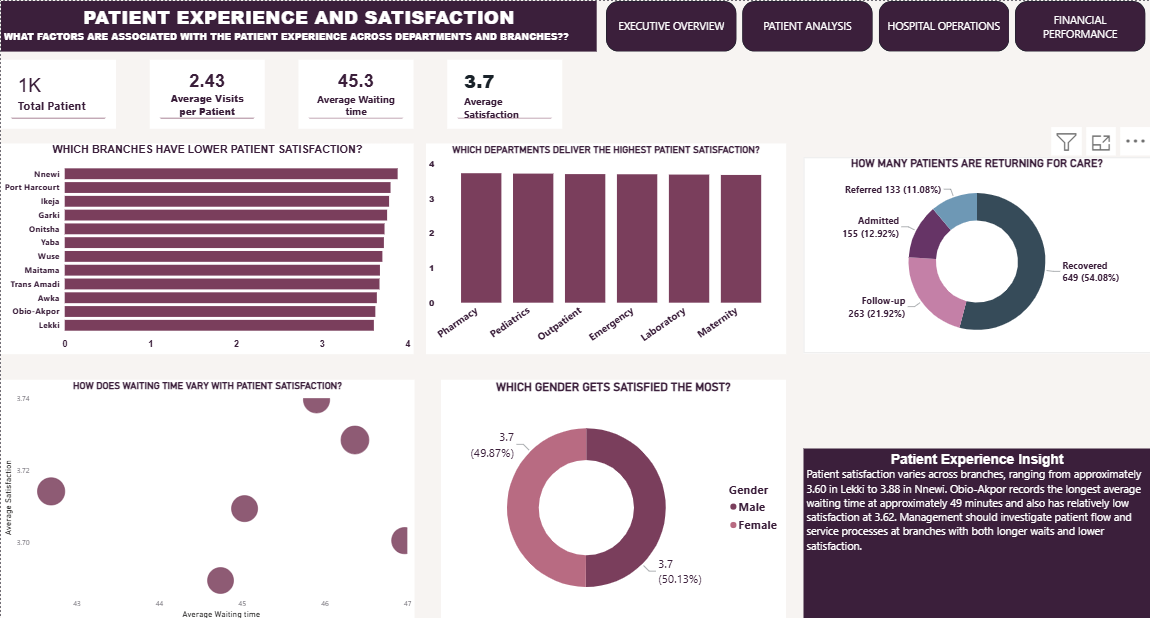

The dashboard page shown, as its layout file describes it:
{"tool":"powerbi","page":{"name":"PAATIENT EXPERIENCE","canvas":[2000,1080],"ordinal":5},"visuals":[{"type":"textbox","box":[0,0,1036,88],"z":0},{"type":"cardVisual","fields":{"Data":["Patient_Visits.Total Patient"]},"box":[0,102,200,120],"z":1000},{"type":"cardVisual","fields":{"Data":["Dim_Branch.Average Visits per Patient"]},"box":[259,102,200,120],"z":2000},{"type":"cardVisual","fields":{"Data":["Dim_Branch.Average Waiting time"]},"box":[518,102,200,120],"z":3000},{"type":"cardVisual","fields":{"Data":["Dim_Branch.Average Satisfaction"]},"box":[777,102,200,120],"z":4000},{"type":"pageNavigator","box":[1052,0,938,88],"z":5000},{"type":"textbox","box":[1396.2,777.4,603.8,301.9],"z":6000},{"type":"clusteredColumnChart","title":"WHICH DEPARTMENTS DELIVER THE HIGHEST PATIENT SATISFACTION?","fields":{"Category":["Dim_Department.Department"],"Y":["Dim_Branch.Average Satisfaction"]},"box":[739.6,247.2,626.4,366],"z":7000},{"type":"clusteredBarChart","title":"WHICH BRANCHES HAVE LOWER PATIENT SATISFACTION?","fields":{"Y":["Dim_Branch.Average Satisfaction"],"Category":["Patient_Visits.Branch"]},"box":[0,247.1,717.6,366.7],"z":8000},{"type":"scatterChart","title":"HOW DOES WAITING TIME VARY WITH PATIENT SATISFACTION?","fields":{"X":["Dim_Branch.Average Waiting time"],"Y":["Dim_Branch.Average Satisfaction"],"Category":["Dim_Department.Department"],"Size":["Patient_Visits.Total Patient"]},"box":[0,658.5,718.9,420.8],"z":9000},{"type":"donutChart","title":"HOW MANY PATIENTS ARE RETURNING FOR CARE?","fields":{"Y":["Patient_Visits.Total Patient"],"Category":["Patient_Visits.Outcome"]},"box":[1396.2,271.7,603.8,341.5],"z":10000},{"type":"donutChart","title":"WHICH GENDER GETS SATISFIED THE MOST?","fields":{"Category":["Patient_Visits.Gender"],"Y":["Dim_Branch.Average Satisfaction"]},"box":[766,658,600,422],"z":11000}]}

Visuals, with their boxes in screenshot pixels (x1, y1, x2, y2), scaled from the page's 2000x1080 canvas onto the 1150x618 screenshot:
textbox: (0,0,596,50)
cardVisual - Patient_Visits.Total Patient: (0,58,115,127)
cardVisual - Dim_Branch.Average Visits per Patient: (149,58,264,127)
cardVisual - Dim_Branch.Average Waiting time: (298,58,413,127)
cardVisual - Dim_Branch.Average Satisfaction: (447,58,562,127)
pageNavigator: (605,0,1144,50)
textbox: (803,445,1149,617)
"WHICH DEPARTMENTS DELIVER THE HIGHEST PATIENT SATISFACTION?" clusteredColumnChart: (425,141,785,351)
"WHICH BRANCHES HAVE LOWER PATIENT SATISFACTION?" clusteredBarChart: (0,141,413,351)
"HOW DOES WAITING TIME VARY WITH PATIENT SATISFACTION?" scatterChart: (0,377,413,617)
"HOW MANY PATIENTS ARE RETURNING FOR CARE?" donutChart: (803,155,1149,351)
"WHICH GENDER GETS SATISFIED THE MOST?" donutChart: (440,377,785,617)
